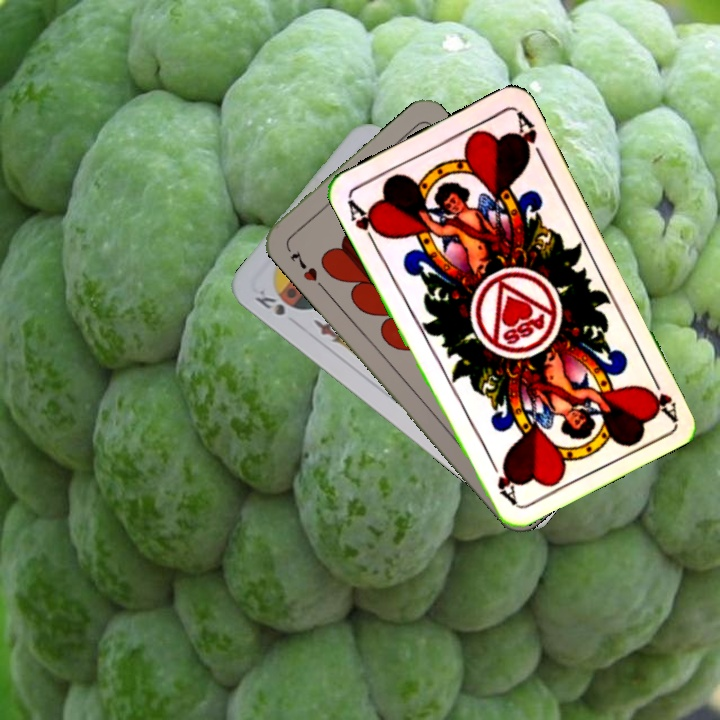H7: (286, 246, 320, 284)
HA: (343, 195, 387, 249), (643, 366, 680, 422)
SK: (250, 284, 288, 319)
